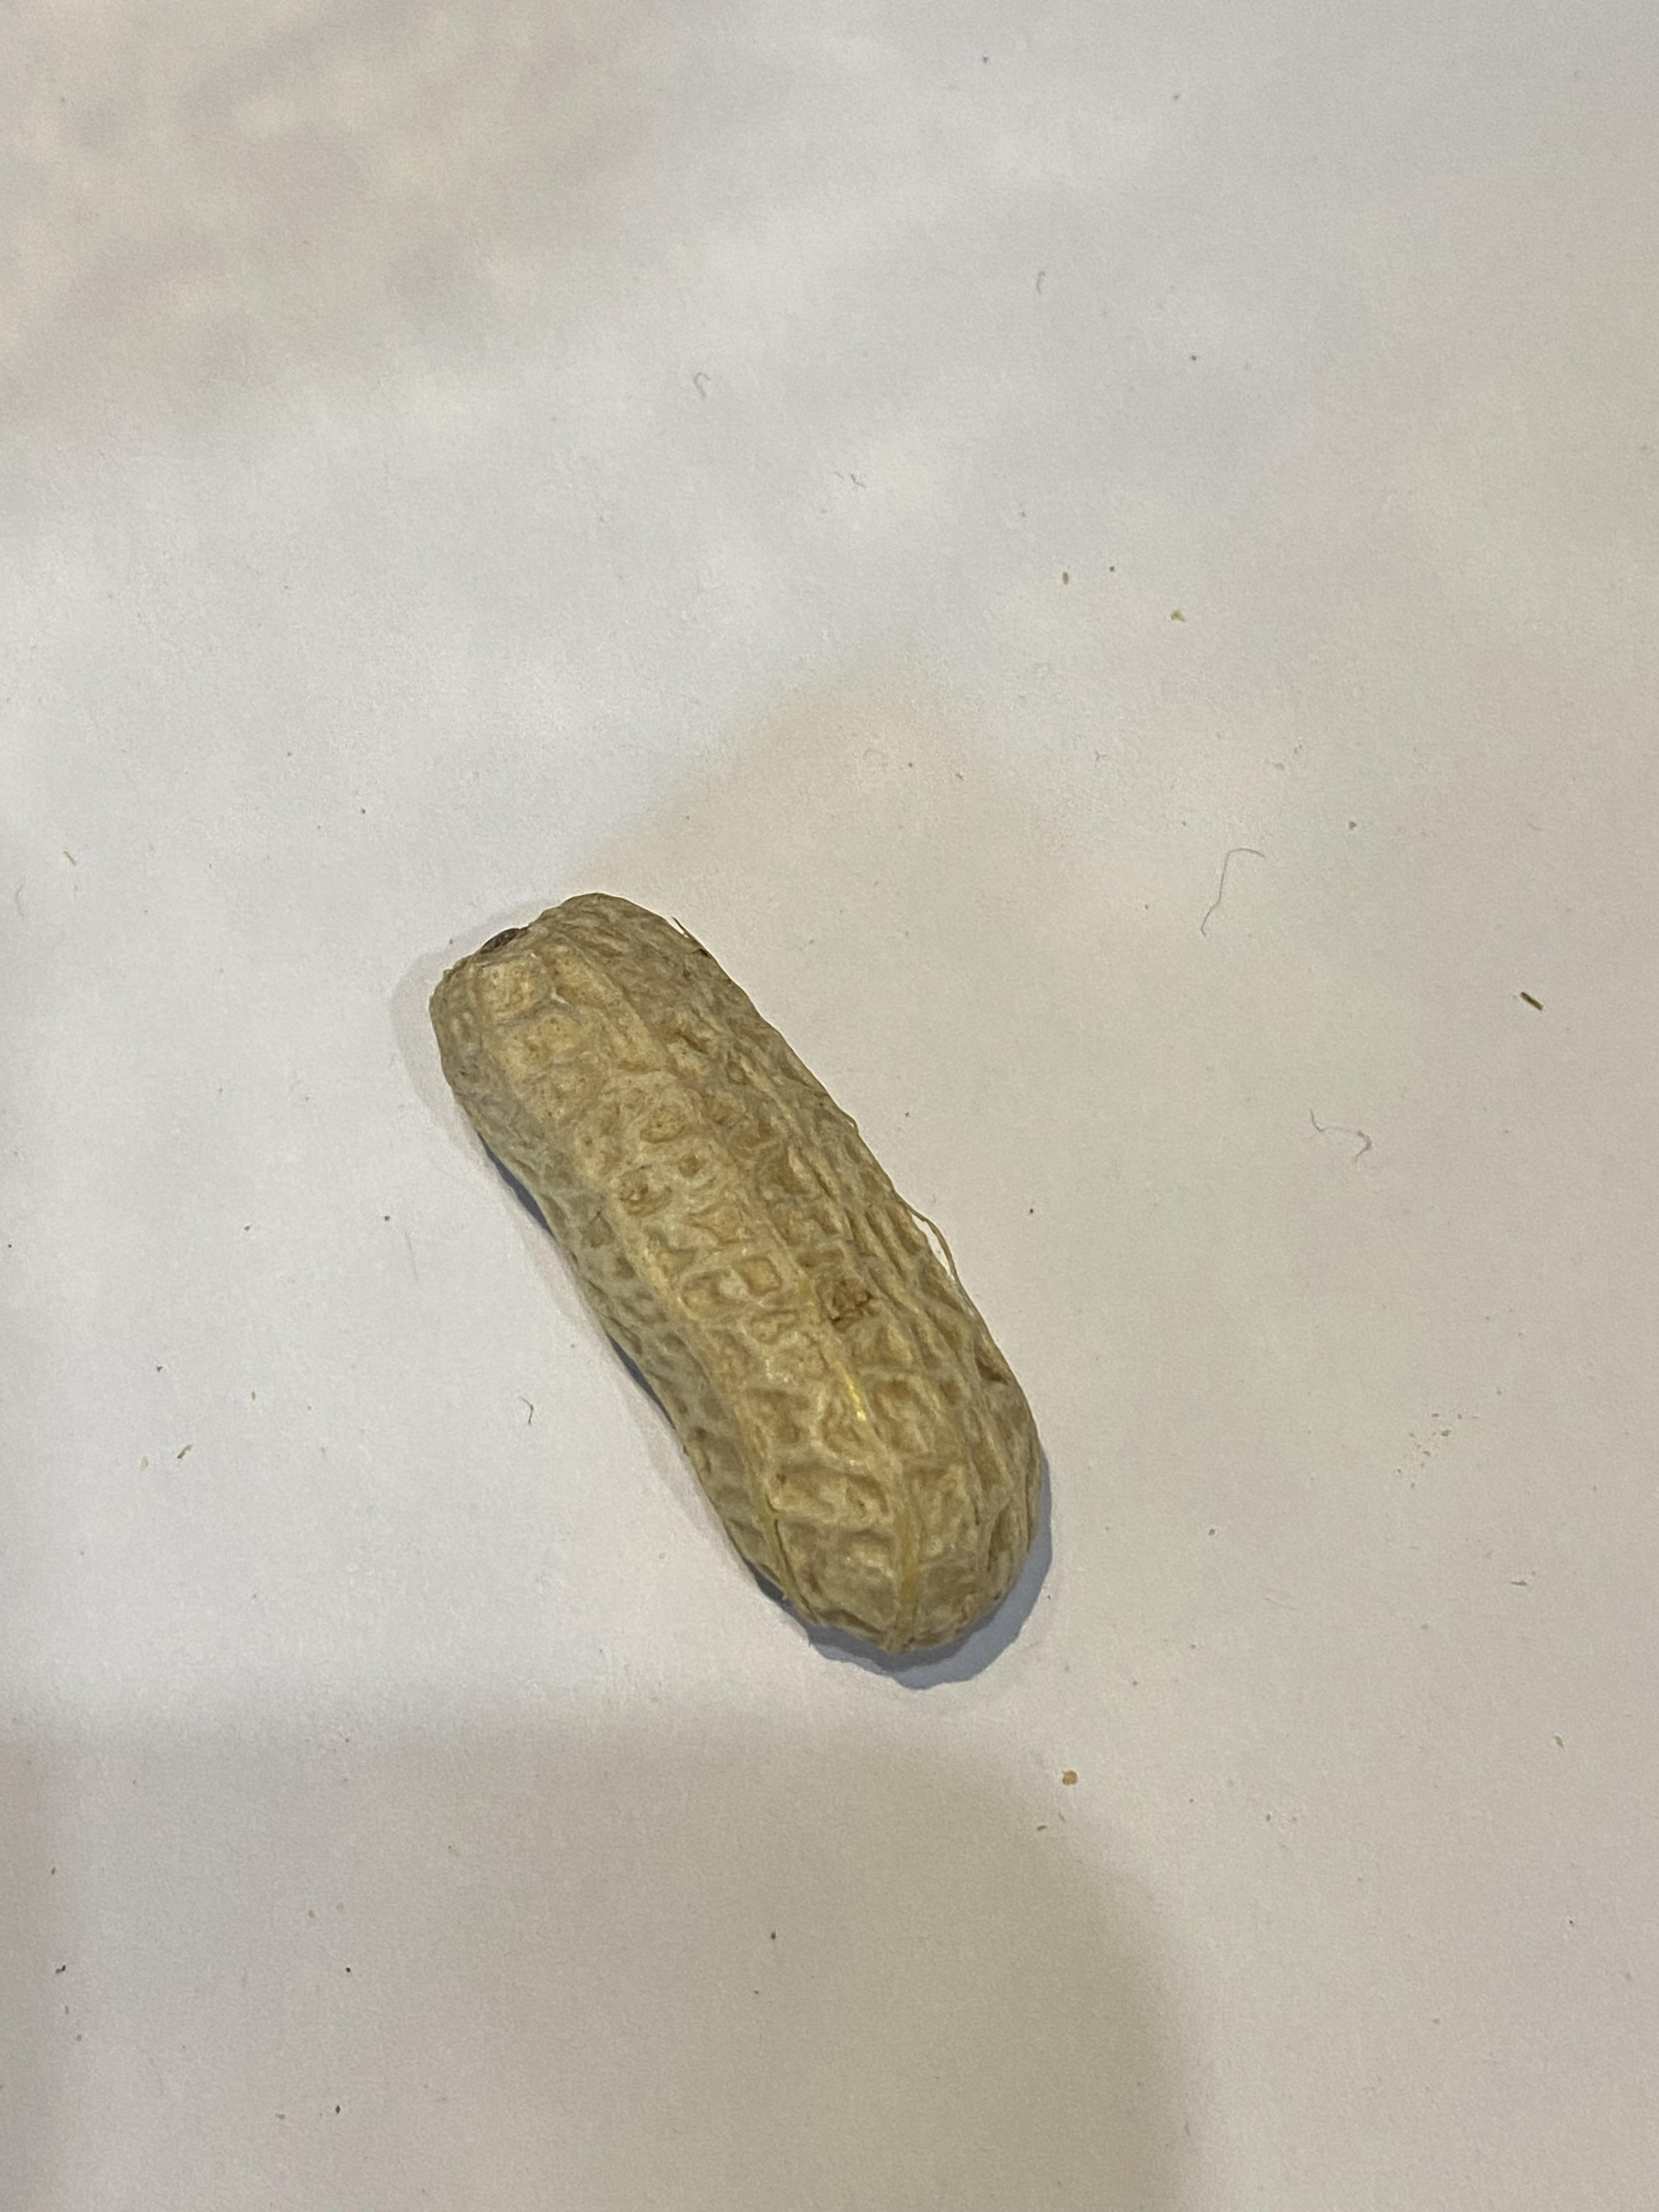kacang3: (406, 833, 1058, 1689)
